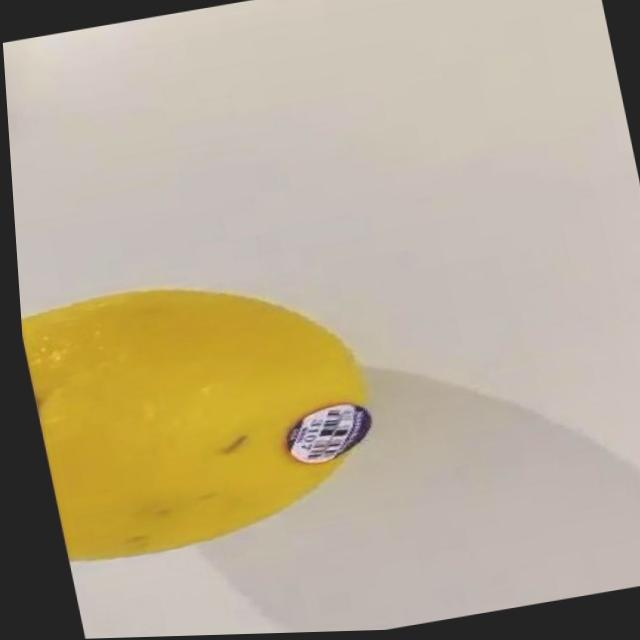Orange: (14, 260, 395, 573)
